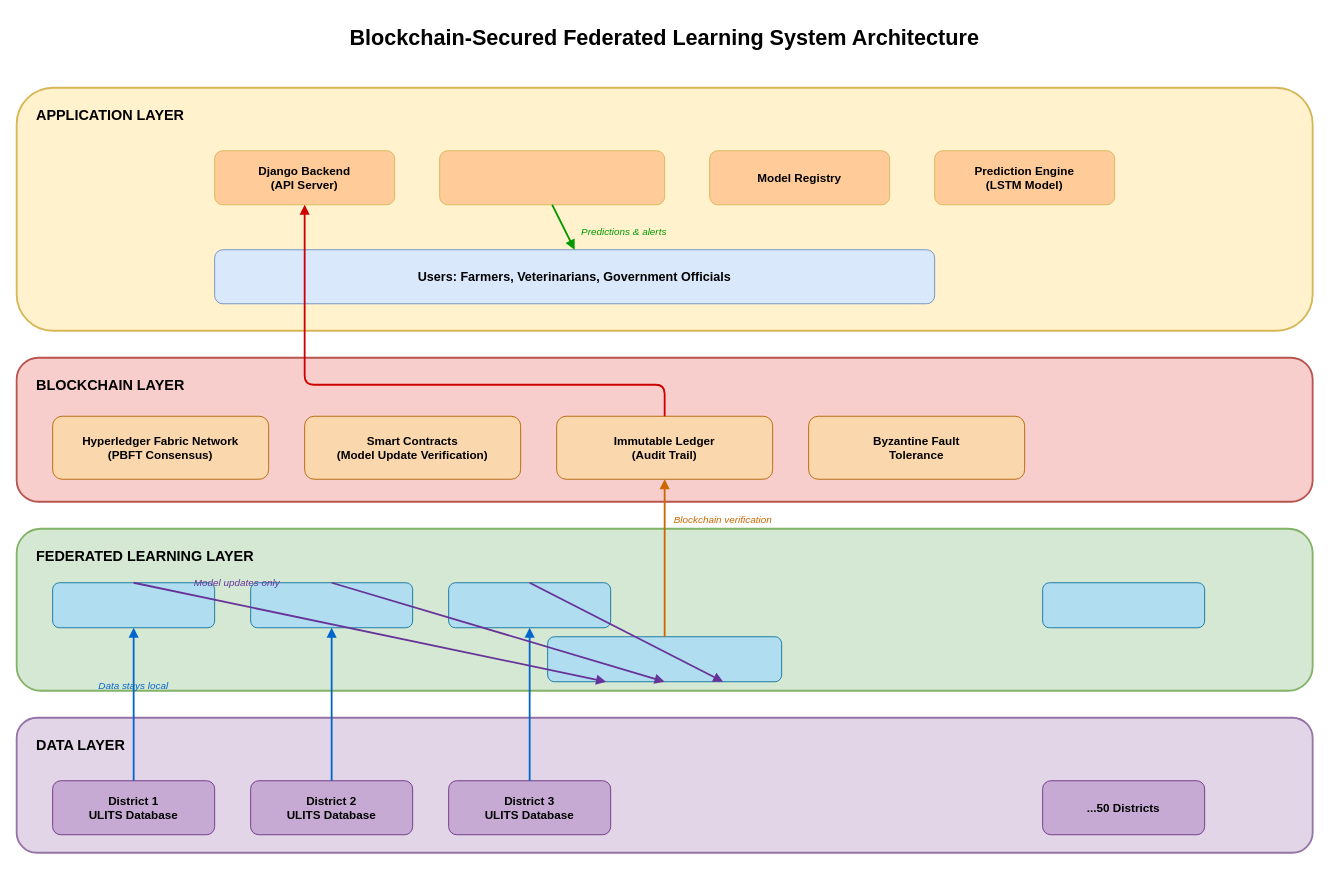
This 1328x869 diagram has some shape labels left out. Here are the shapes that lost their labels. From the top down, the centre of each, then its label:
At [552,177]: "React.js Frontend (Early Warning Dashboard)".
At [133,605]: "Local Training Node 1".
At [331,605]: "Local Training Node 2".
At [529,605]: "Local Training Node 3".
At [1123,605]: "...Local Training Nodes".
At [664,659]: "Secure Aggregation (PySyft)".
